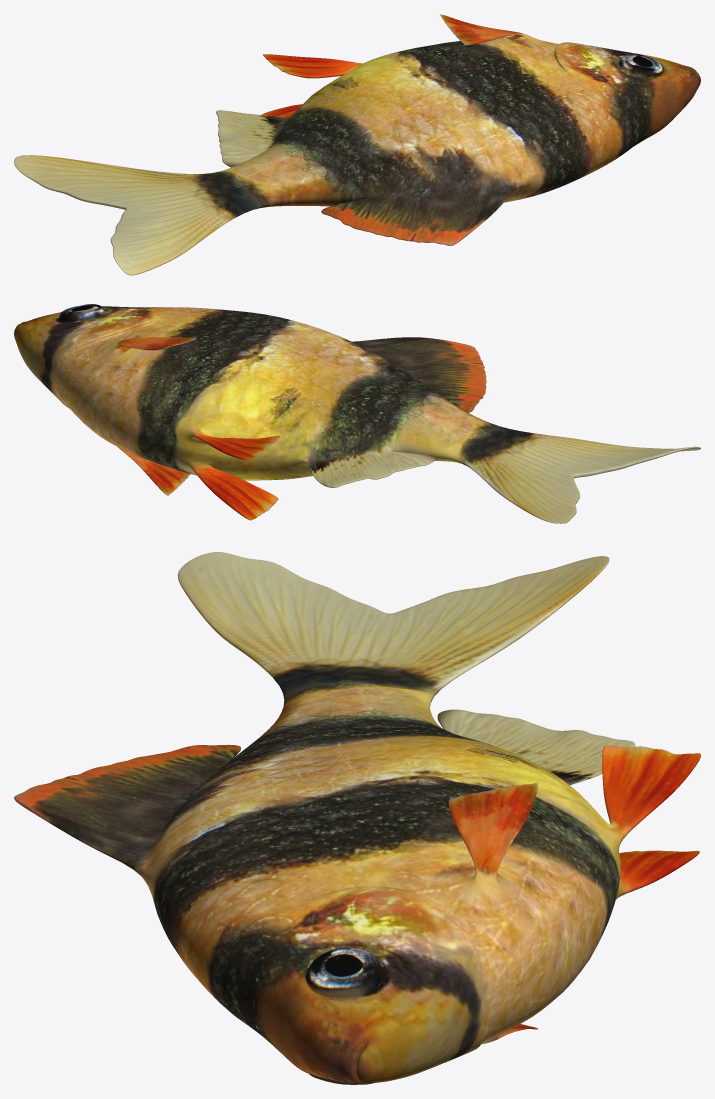
File: 12996_Tiger_Barb_v1_l3.obj
3 views of the same model, one above another, from view 1: azimuth 30°, elevation 25°; view 2: azimuth 150°, elevation 25°; view 3: azimuth 270°, elevation 25° (orthographic). The views are drawn at different scales.
Visible parts, largest first — view 1: 12996_Tiger_Barb; view 2: 12996_Tiger_Barb; view 3: 12996_Tiger_Barb.
Boxes of the visible parts, x1,y1,x2,y2 form: 12996_Tiger_Barb: (14, 14, 700, 275); 12996_Tiger_Barb: (14, 304, 700, 523); 12996_Tiger_Barb: (14, 552, 700, 1084).
Size of the model in its own units: 2.88 by 0.6454 by 1.64.
1 material, 1 textured.
